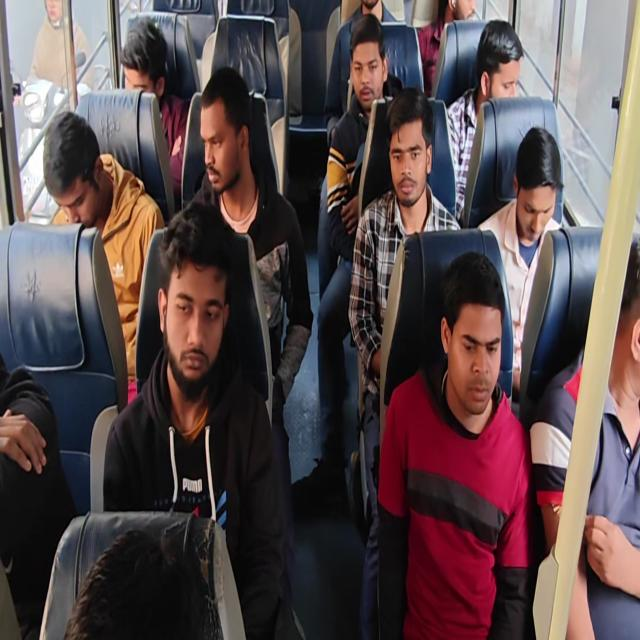person: (55, 493, 232, 640), (158, 200, 233, 408), (435, 250, 518, 434), (39, 100, 115, 248), (192, 62, 254, 196), (509, 125, 568, 251), (386, 78, 440, 208), (602, 229, 640, 412), (343, 13, 400, 129), (468, 15, 534, 112), (108, 15, 172, 106), (440, 0, 484, 38), (352, 0, 392, 37)
